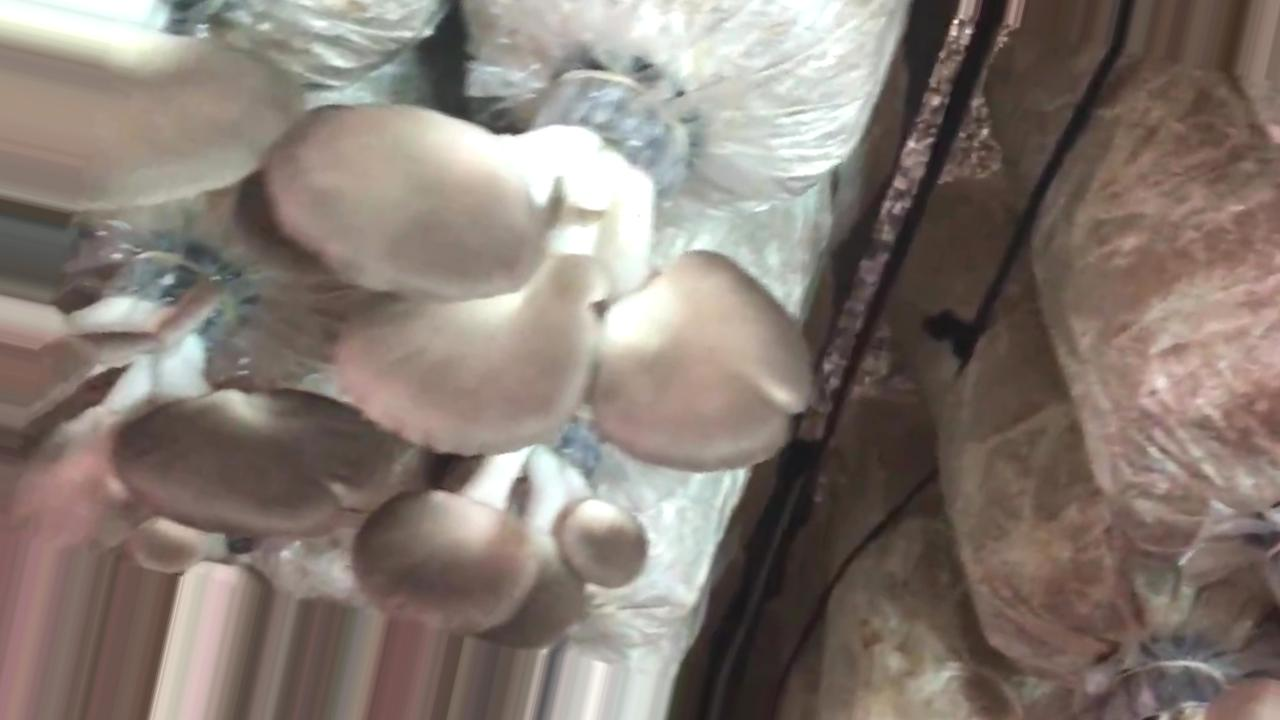nam: (268, 62, 817, 475), (1, 246, 392, 570), (349, 406, 646, 648), (1, 1, 298, 210)
